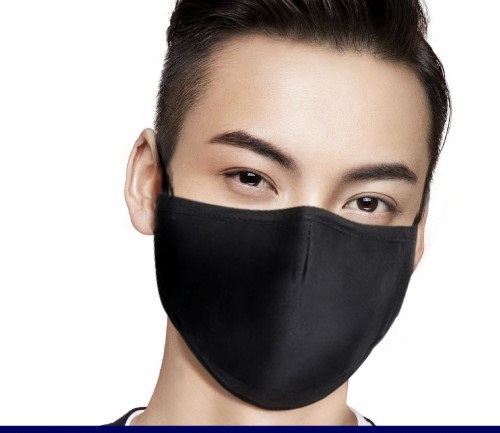face_mask: (167, 46, 426, 368)
